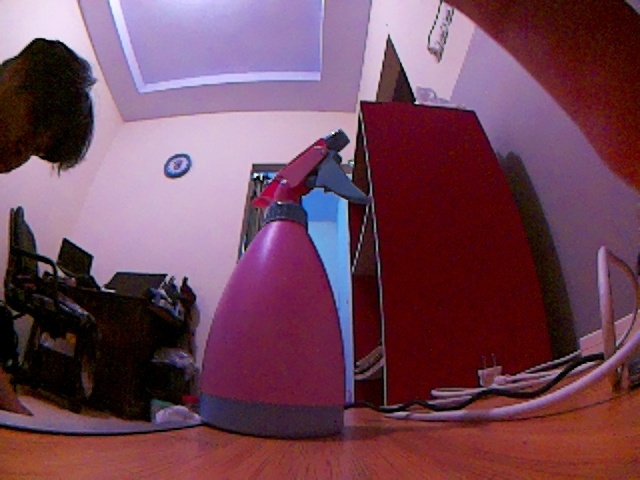korban: (199, 130, 375, 440)
